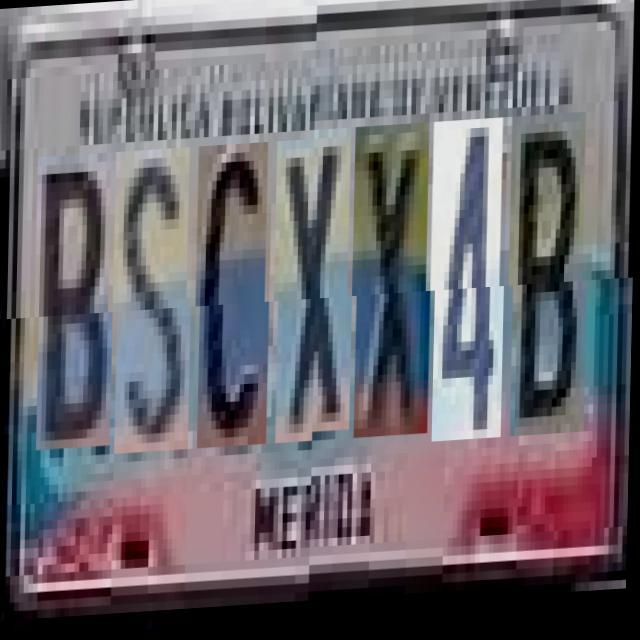4: (434, 133, 508, 457)
B: (512, 129, 591, 453), (38, 154, 117, 450)
C: (199, 146, 273, 452)
S: (116, 150, 195, 456)
X: (356, 137, 434, 452), (278, 141, 356, 447)
